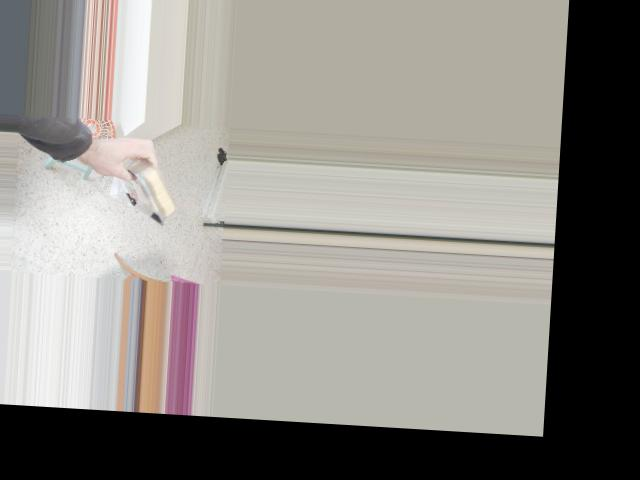cheese: (101, 126, 193, 239)
